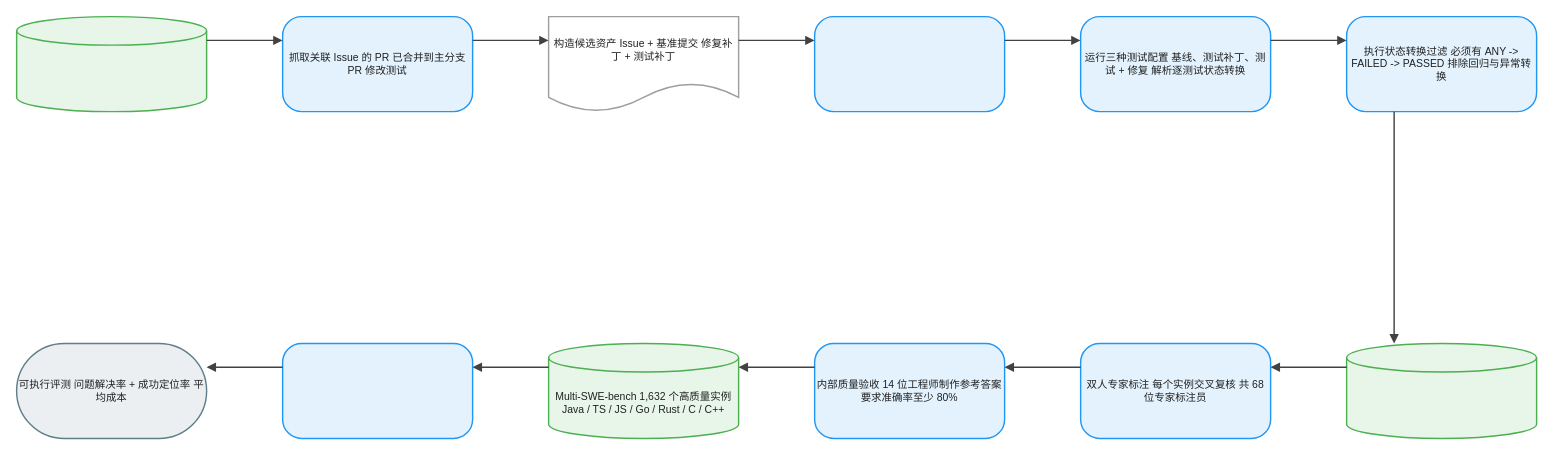
The diagram is 1554 pixels wide and 456 high, and some of its shapes have lost their labels. The shapes that lost their labels are listed below. From the top down, each one's centre as x and y in pixels, then its label:
pixel 111 63: 七种语言的 GitHub 仓库 超过 500 星且活跃至少 6 个月 有 CI/CD，最新提交可构建
pixel 909 63: 确定执行环境 分析 CI / 文档与依赖 调整 Dockerfile，否则丢弃
pixel 377 390: 智能体接收 Issue 与代码库 生成并应用修复补丁 在 Docker 环境中执行
pixel 1441 390: 2,456 个可执行候选 来自 39 个仓库 覆盖七种编程语言
